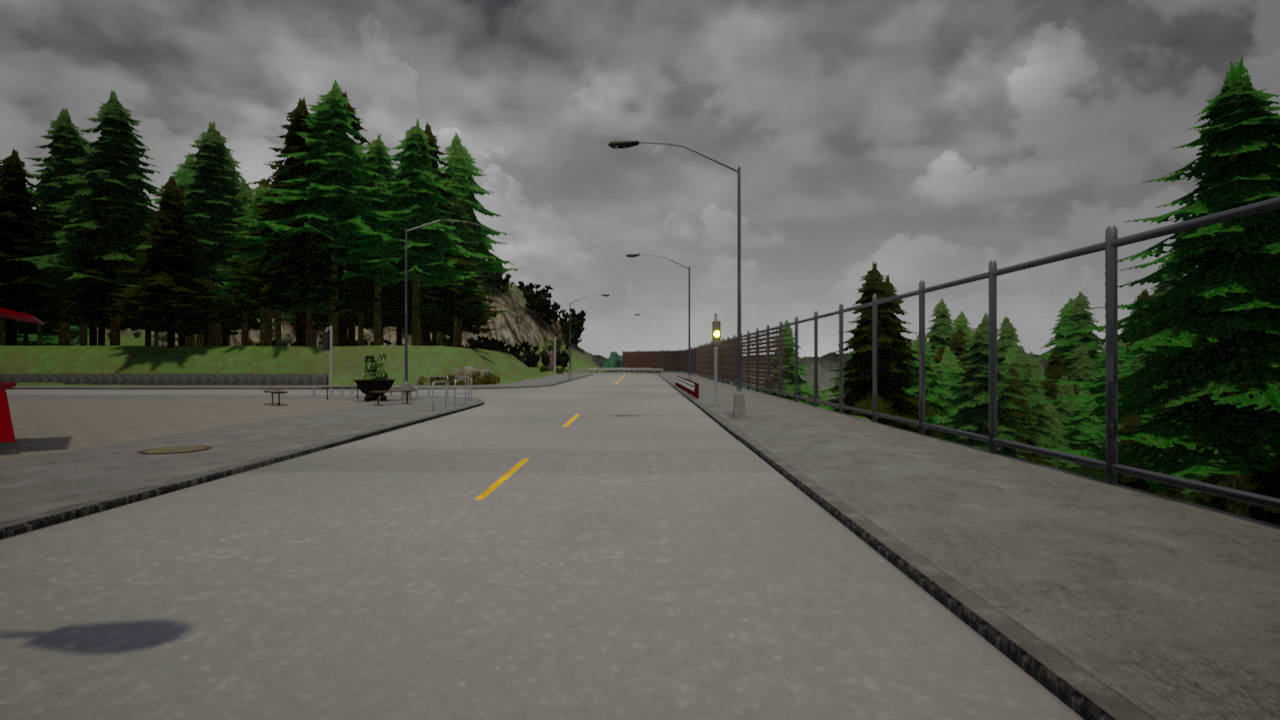yellow: (711, 319, 723, 346)
